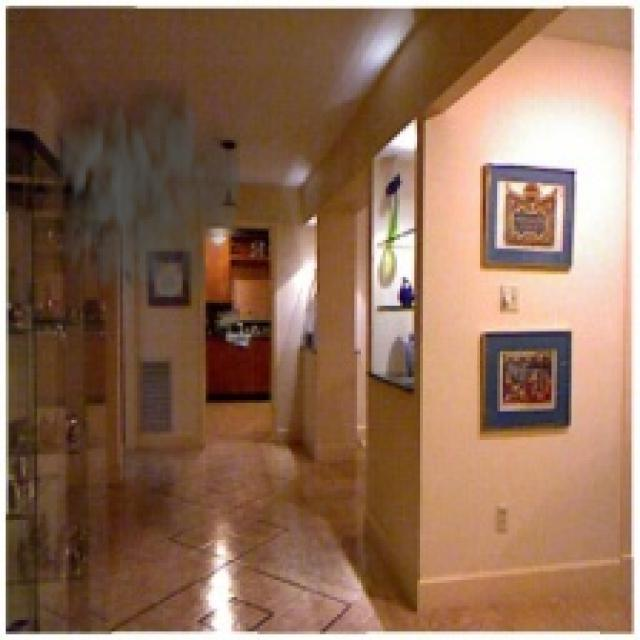smoke: (40, 80, 240, 329)
